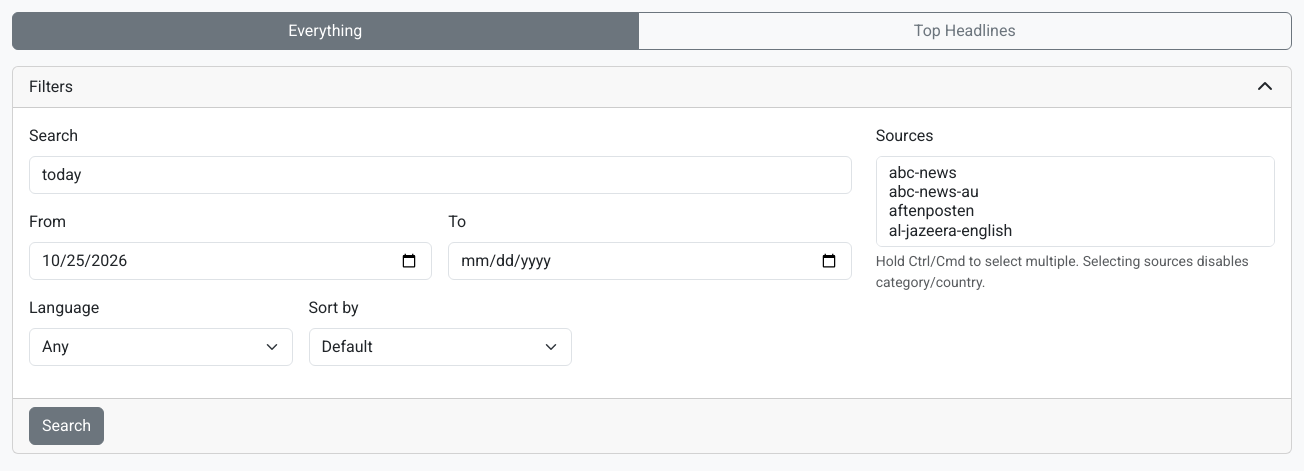
Test: NewsFilterFormComponent › filter panel collapse › collapses on header click
The image size is (1304, 471).
Click the button with class "card-header": (51, 86) [13,67,1291,108]
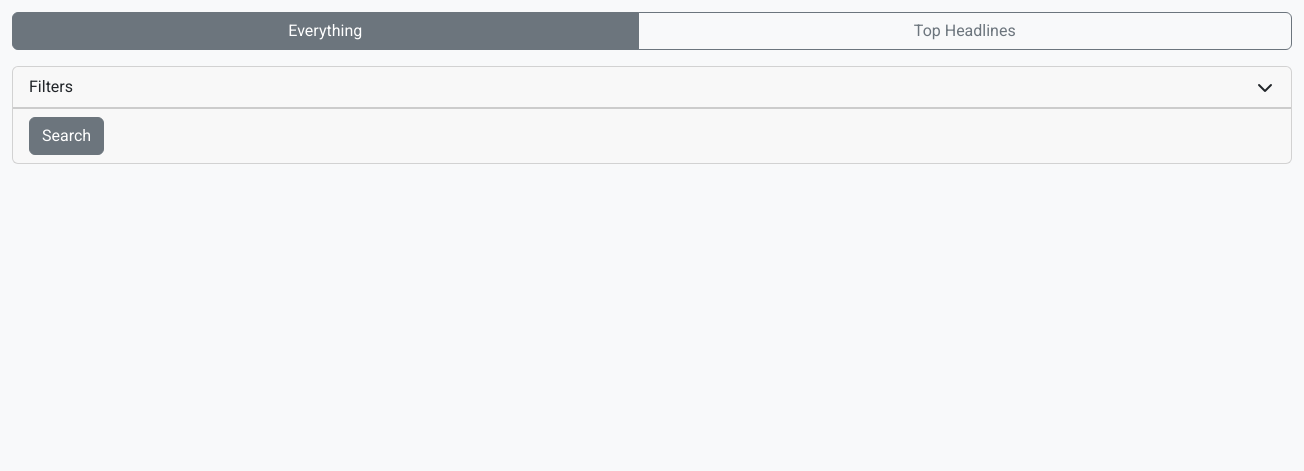
Expected: the element with class "card-body" is gone
